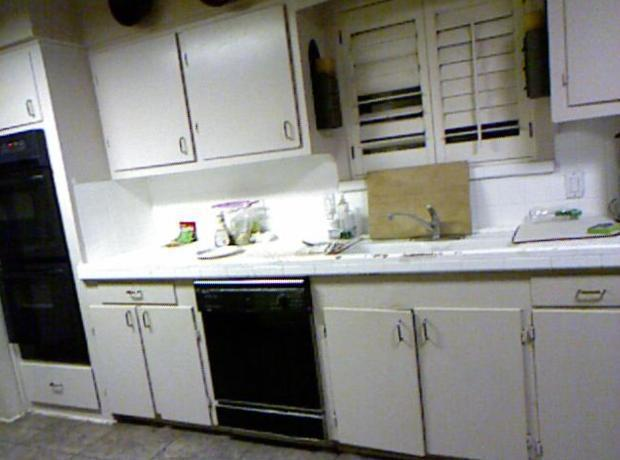Lavaplatos: (333, 196, 479, 275)
